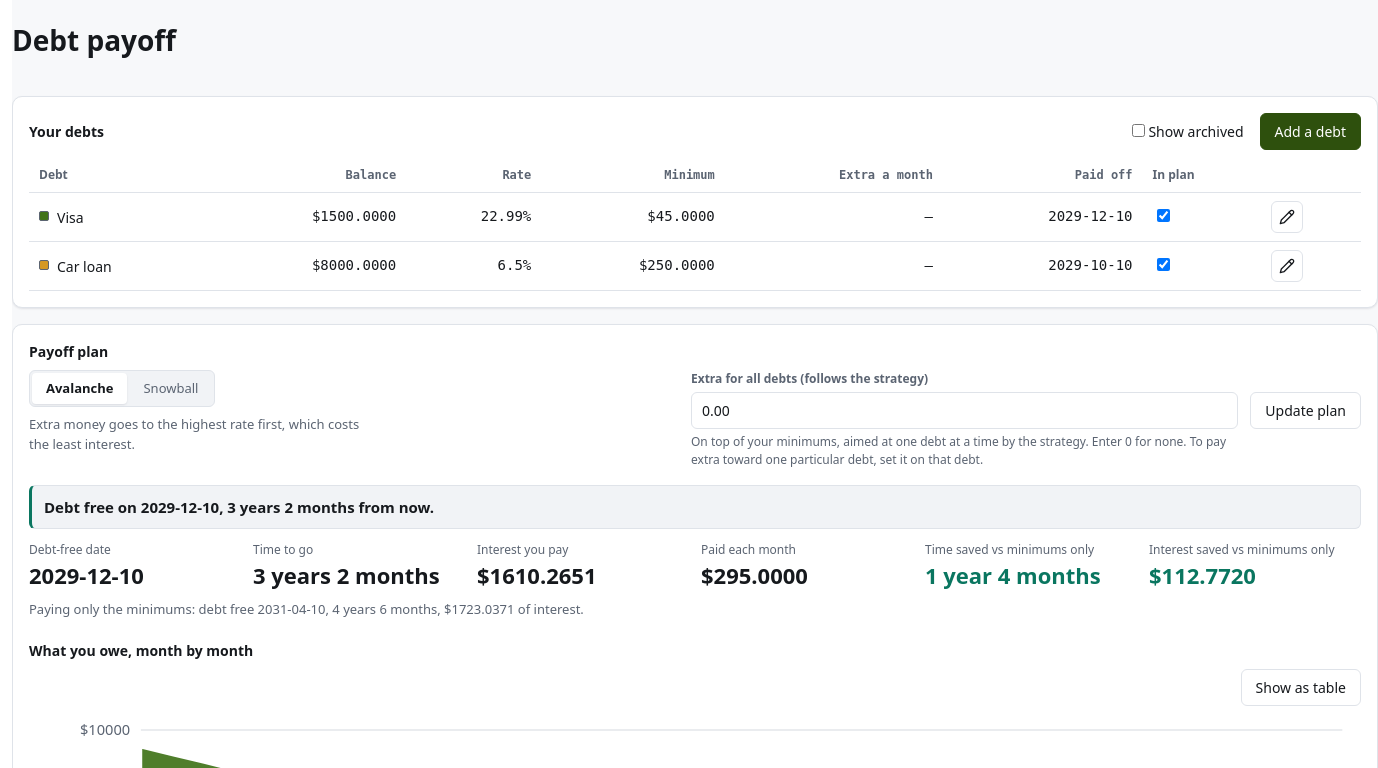
Test: leaving a debt out of the plan › shows a failure to save as an alert and leaves the box as it was
Expected: the text "Debt free on 2029-12-10, 3 years 2 months from now." is shown, [29, 484, 1361, 529]
Click the checkbox named "Include Visa in the payoff plan" at (1163, 216), box [1157, 209, 1170, 222]
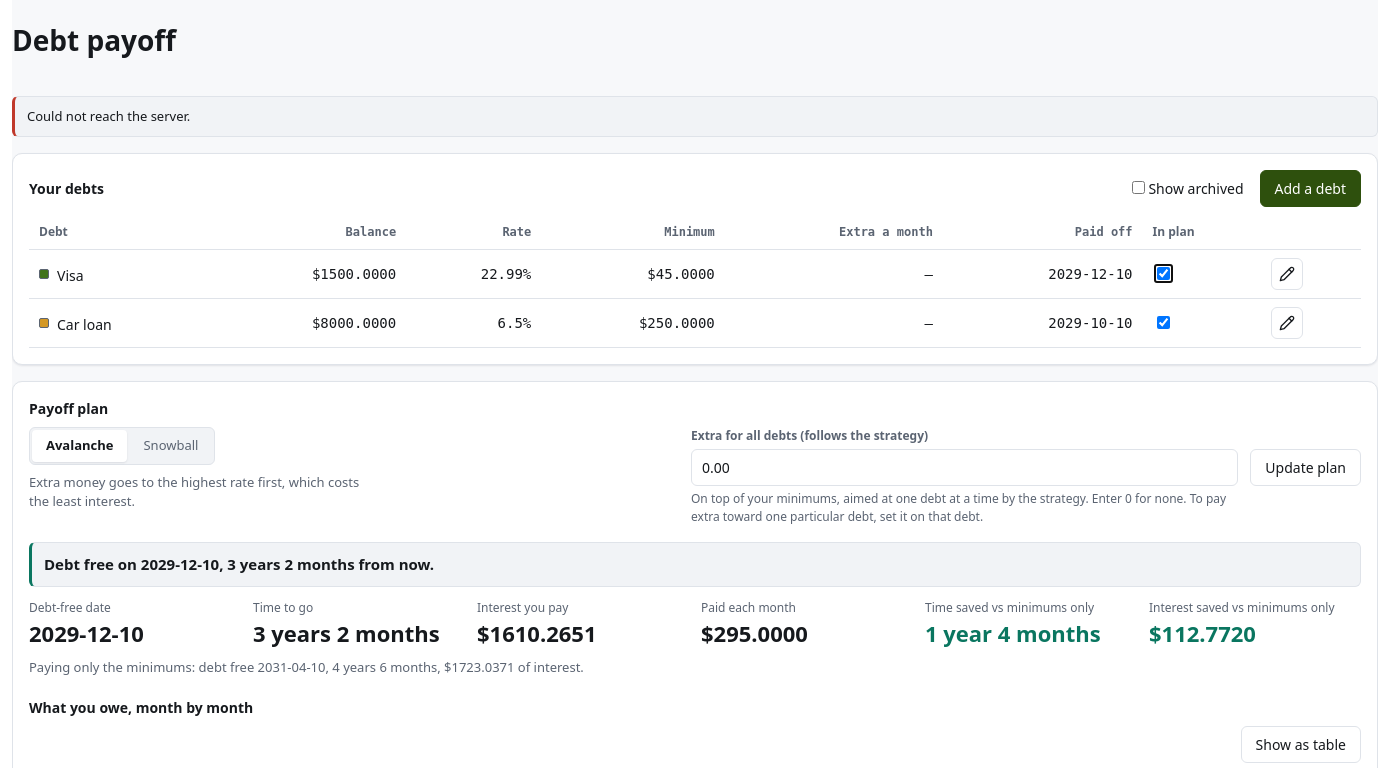
Now the message "Could not reach the server." is shown, box [12, 96, 1377, 137]
